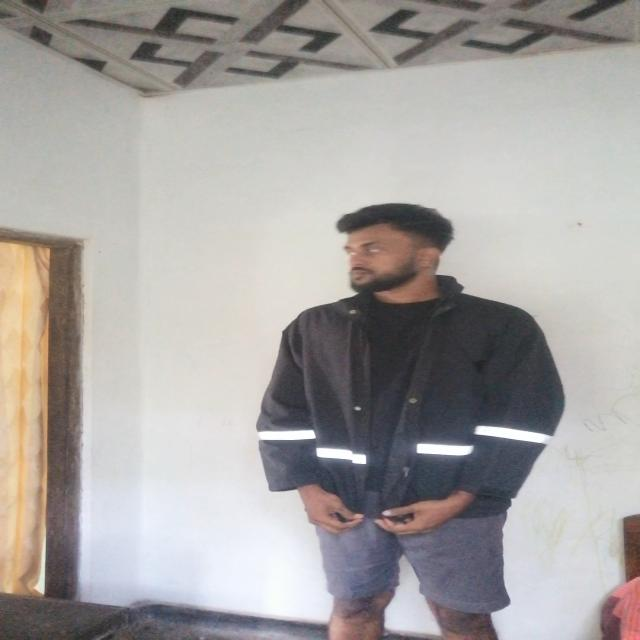Jacket_Wearer: (231, 284, 577, 532)
